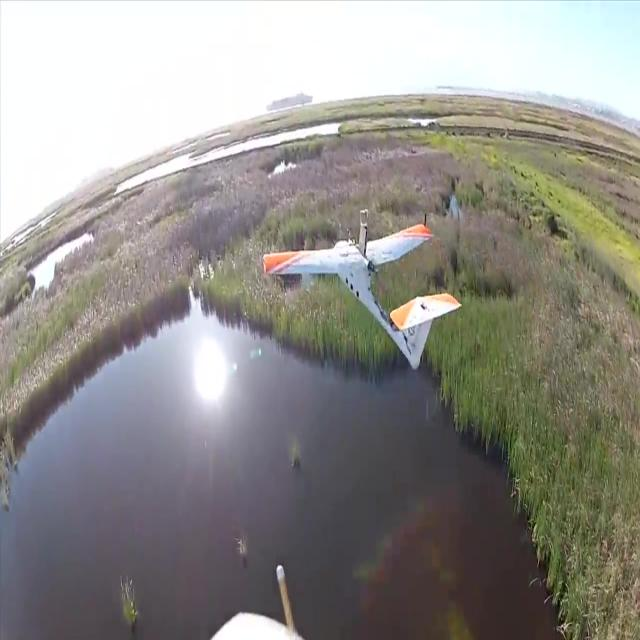iha: (265, 208, 461, 372)
